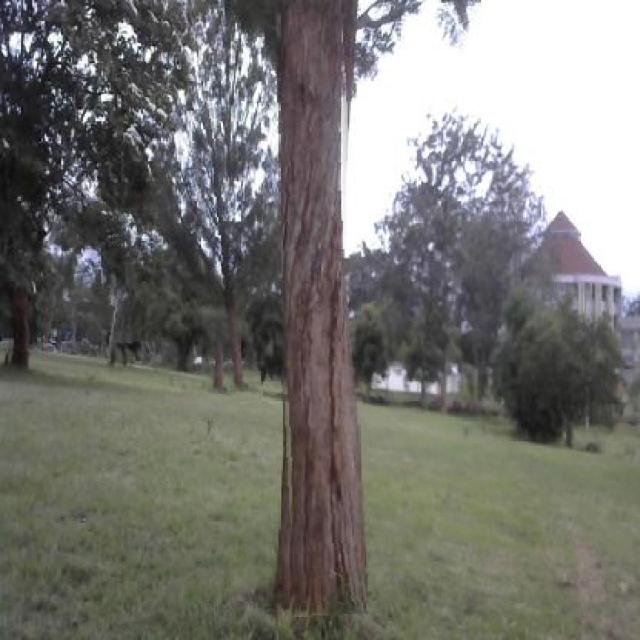tree trunk: (270, 0, 364, 615), (196, 107, 252, 404), (101, 160, 142, 374), (0, 124, 35, 372)
